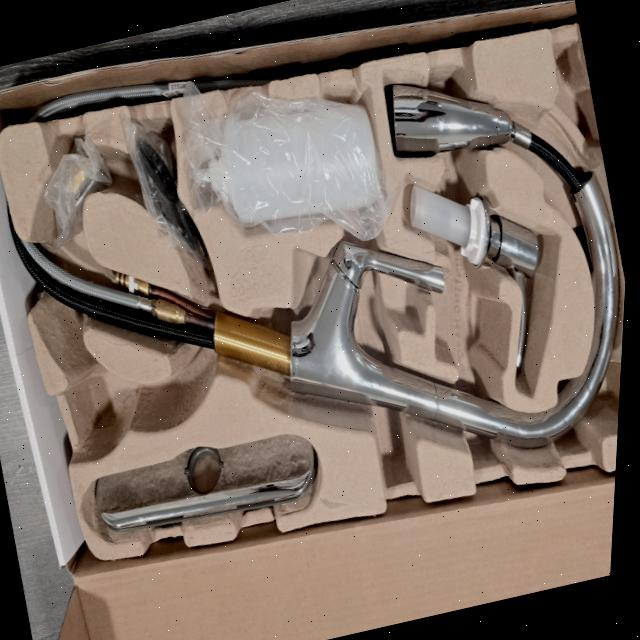1: (15, 81, 620, 448)
2: (408, 184, 539, 373)
3: (193, 97, 381, 226)
4: (94, 434, 317, 526)
5m: (78, 368, 132, 449)
6: (42, 133, 109, 249)
7: (120, 115, 206, 267)
